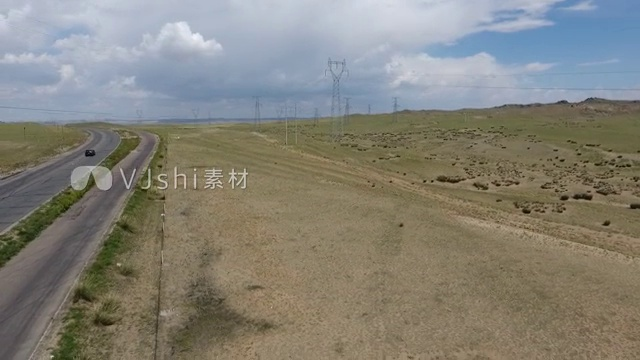tower_body: (319, 52, 358, 147)
tower_foot: (330, 117, 348, 145)
tower_head: (323, 55, 352, 83)
